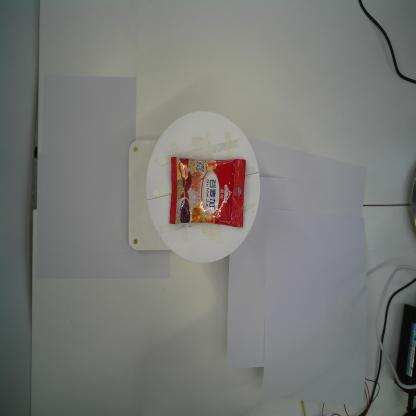Instant Drink: (169, 155, 246, 228)
